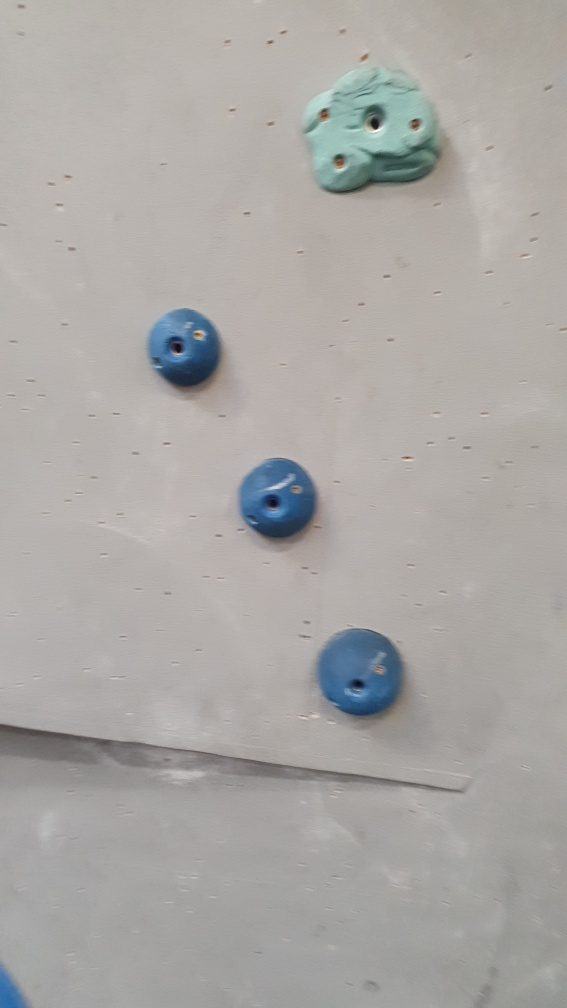Sloper: (316, 628, 406, 721), (239, 456, 318, 538), (148, 309, 222, 390)
